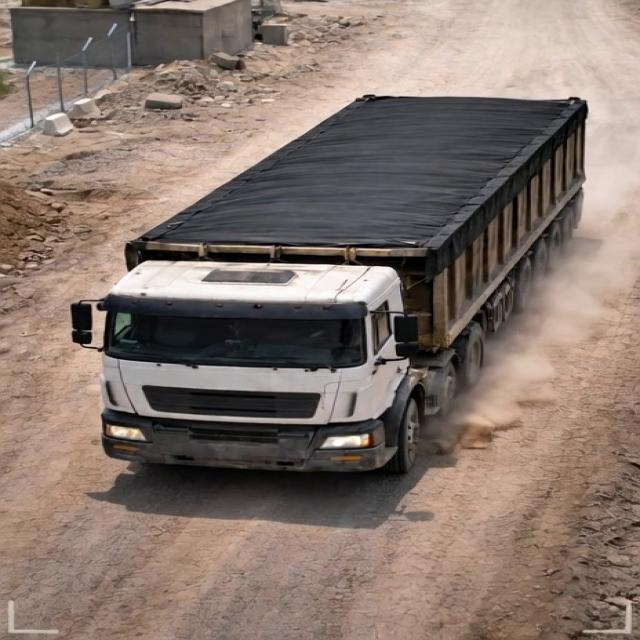Box: (139, 92, 581, 256)
Truck: (61, 76, 612, 485)
